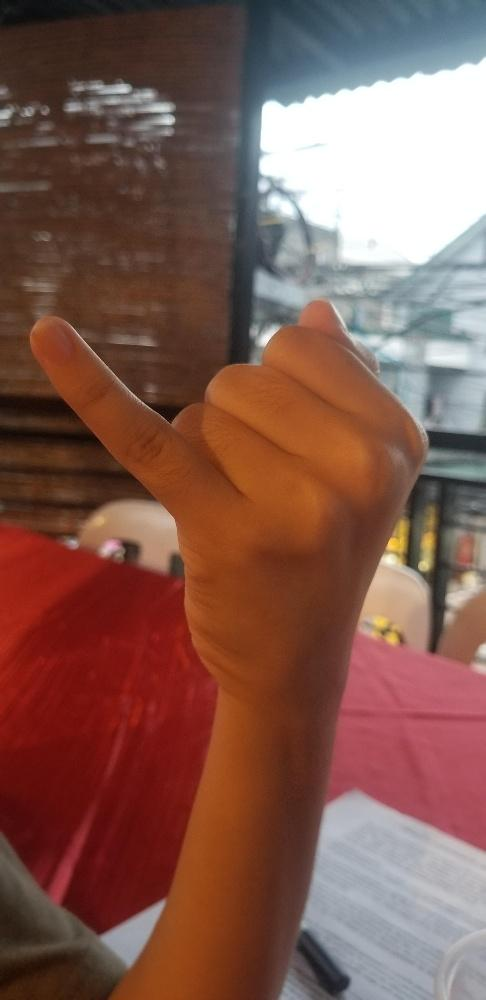j: (26, 297, 424, 690)
